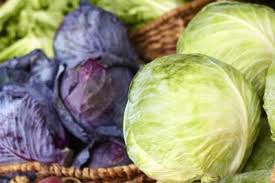cabbage: (130, 54, 262, 183), (39, 42, 128, 144), (180, 1, 274, 83)
